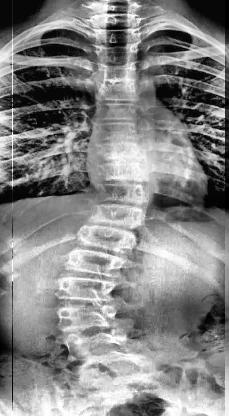Vertebrae: (52, 304, 130, 334), (52, 276, 119, 304), (63, 250, 128, 278), (92, 138, 160, 164), (76, 228, 140, 255), (85, 204, 145, 232), (93, 162, 161, 186), (91, 119, 156, 142), (92, 184, 154, 208), (94, 99, 144, 121), (92, 28, 142, 48), (94, 44, 142, 64), (93, 80, 145, 98), (95, 62, 139, 80), (98, 13, 140, 31)
